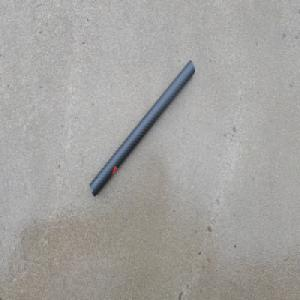LuggagePart: (89, 58, 195, 198)
